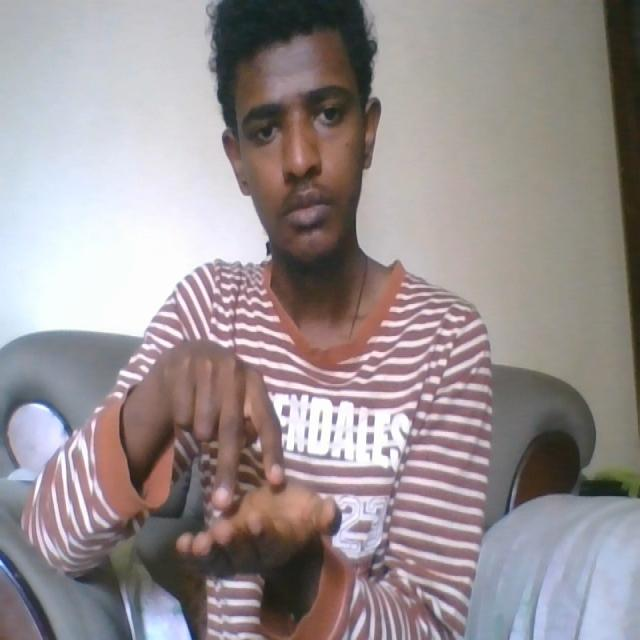mezlel: (166, 337, 341, 570)
